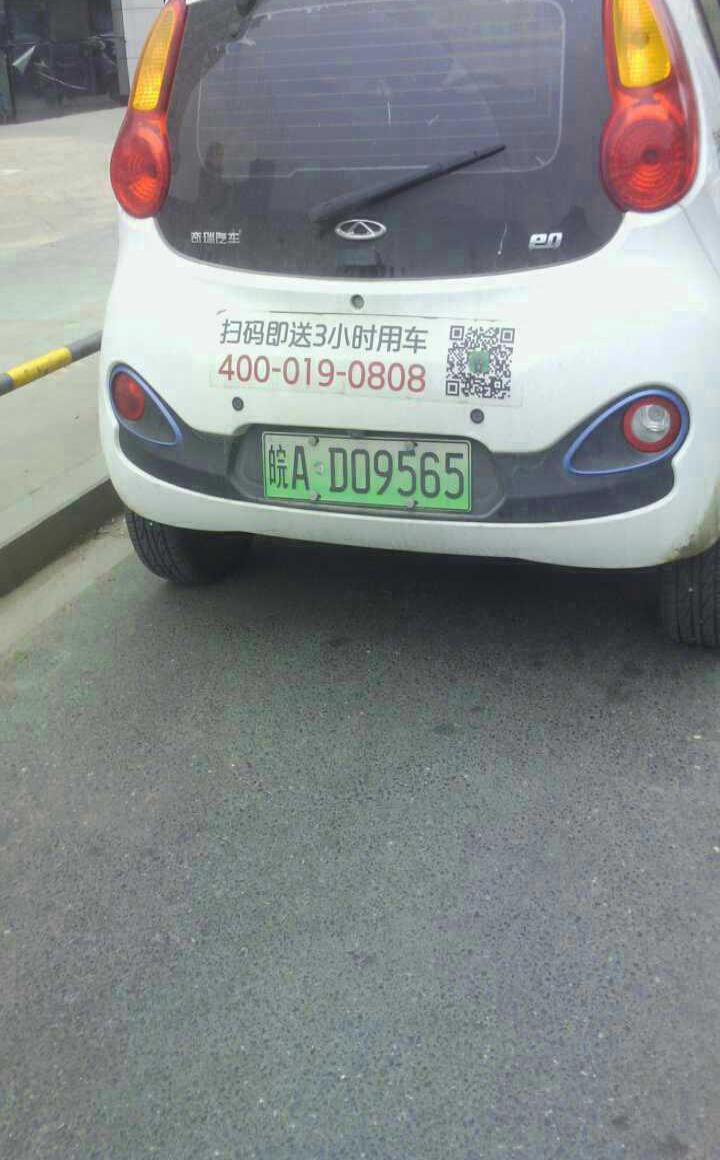car_green: (261, 426, 482, 513)
